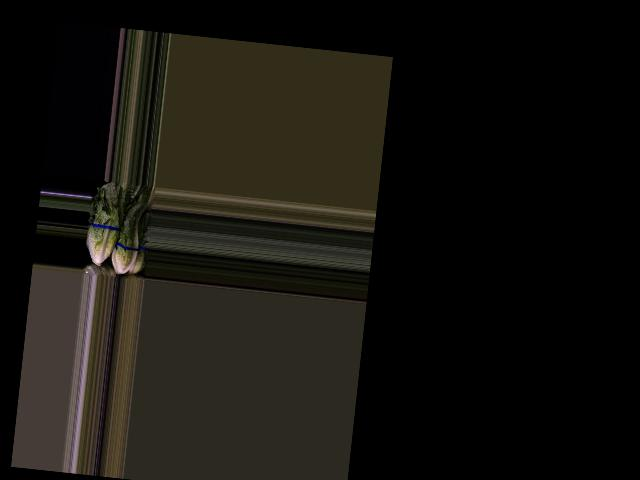lettuce: (109, 199, 149, 277)
